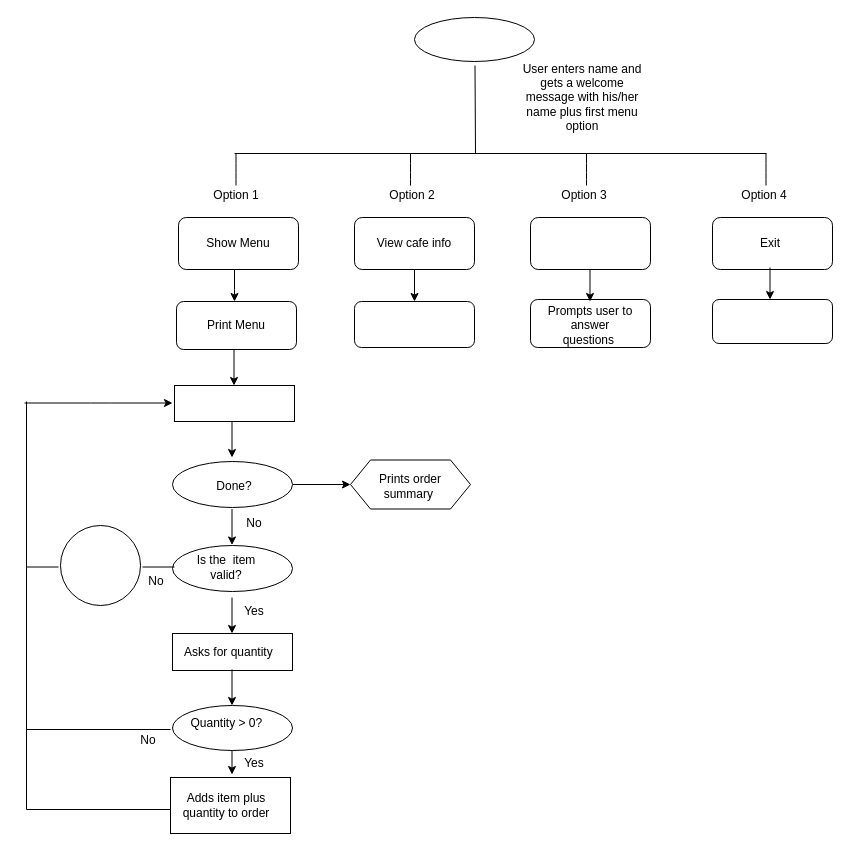
Image size: 850x851. Some labels were removed from this diagram. Each missing label, with the centre of its shape:
Asks user to pick item: [234,403]
Notify of invalid input: [100,565]
Print cafe info: [414,324]
Prints bye message: [772,321]
Provide feedback: [590,243]
User: [474,39]
